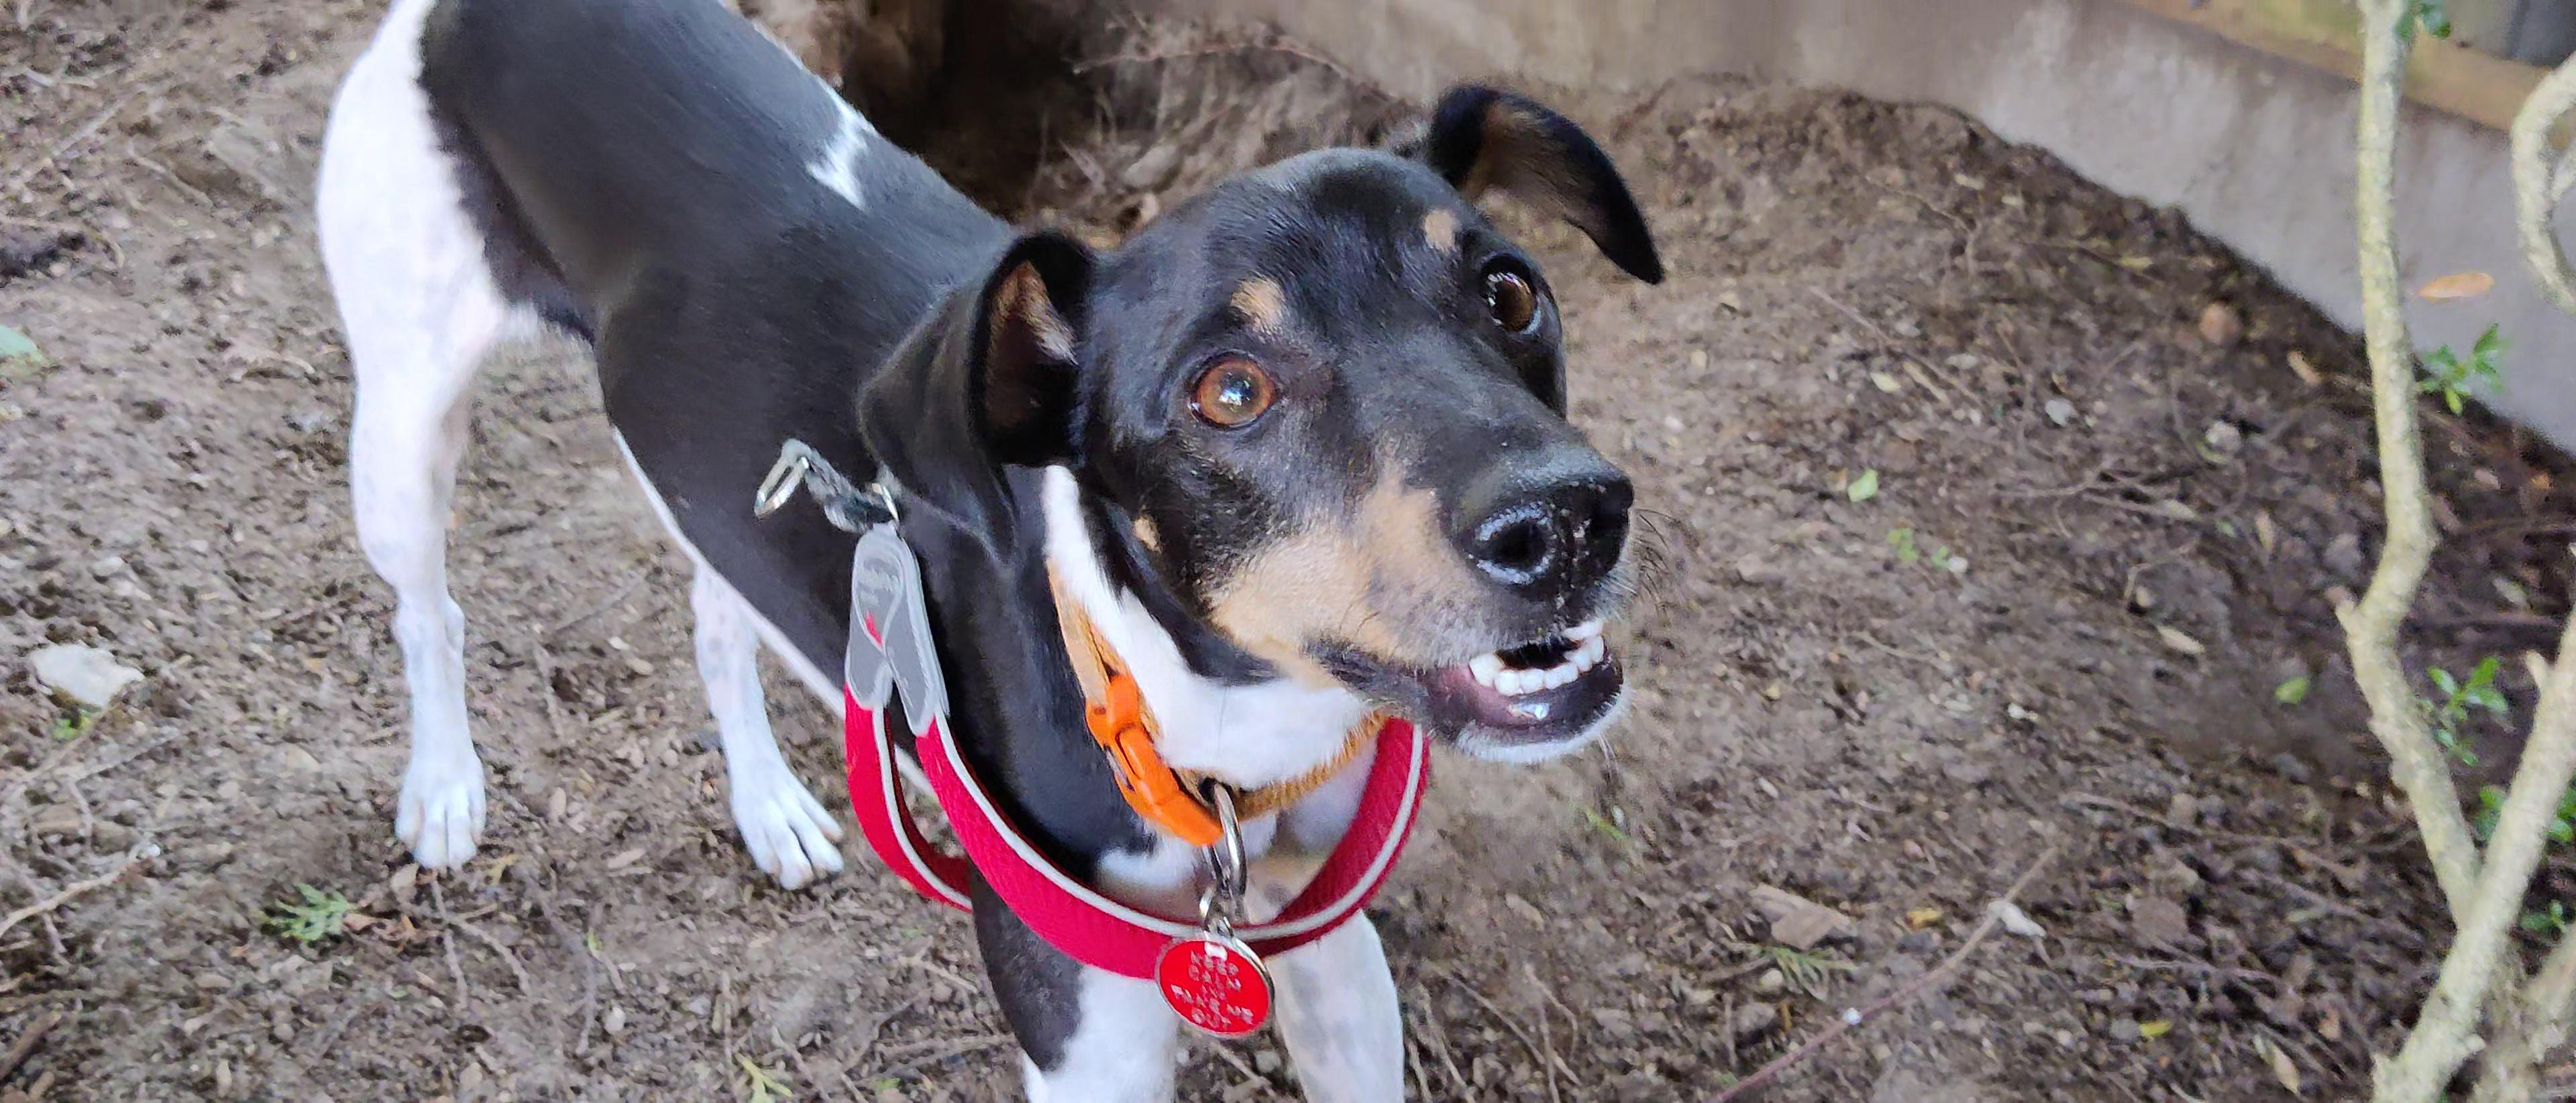Dog: (312, 0, 1672, 1103)
